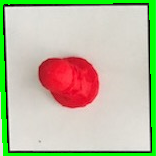Red Pawn: (32, 53, 104, 111)
